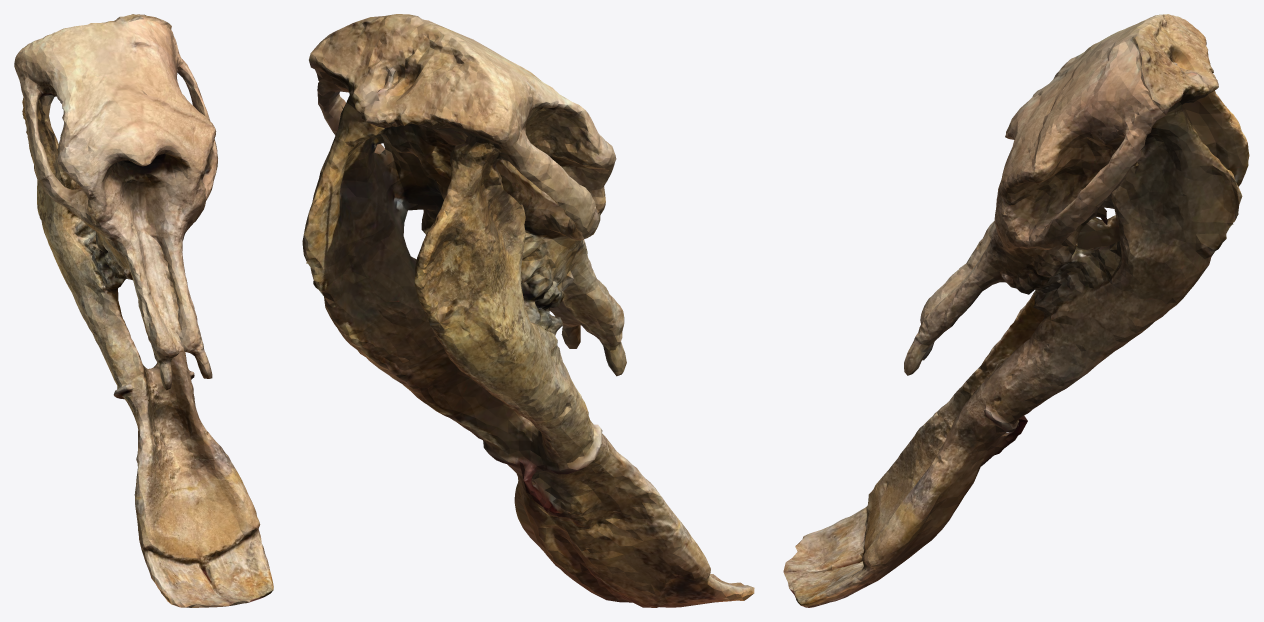
File: crane_de_platybelodon.glb
3 views of the same model, side by side, from view 1: azimuth 30°, elevation 25°; view 2: azimuth 150°, elevation 25°; view 3: azimuth 270°, elevation 25° (orthographic). The views are drawn at different scales.
Parts seen in each view (by area): view 1: textured_output_0; view 2: textured_output_0; view 3: textured_output_0.
Part boxes in pixels (bbox=[...]): textured_output_0: bbox=[14, 14, 273, 607]; textured_output_0: bbox=[302, 14, 754, 607]; textured_output_0: bbox=[783, 14, 1249, 607].
Size of the model in its own units: 1.69 by 4.6 by 3.4.
Materials: 1 (1 with a texture image).
